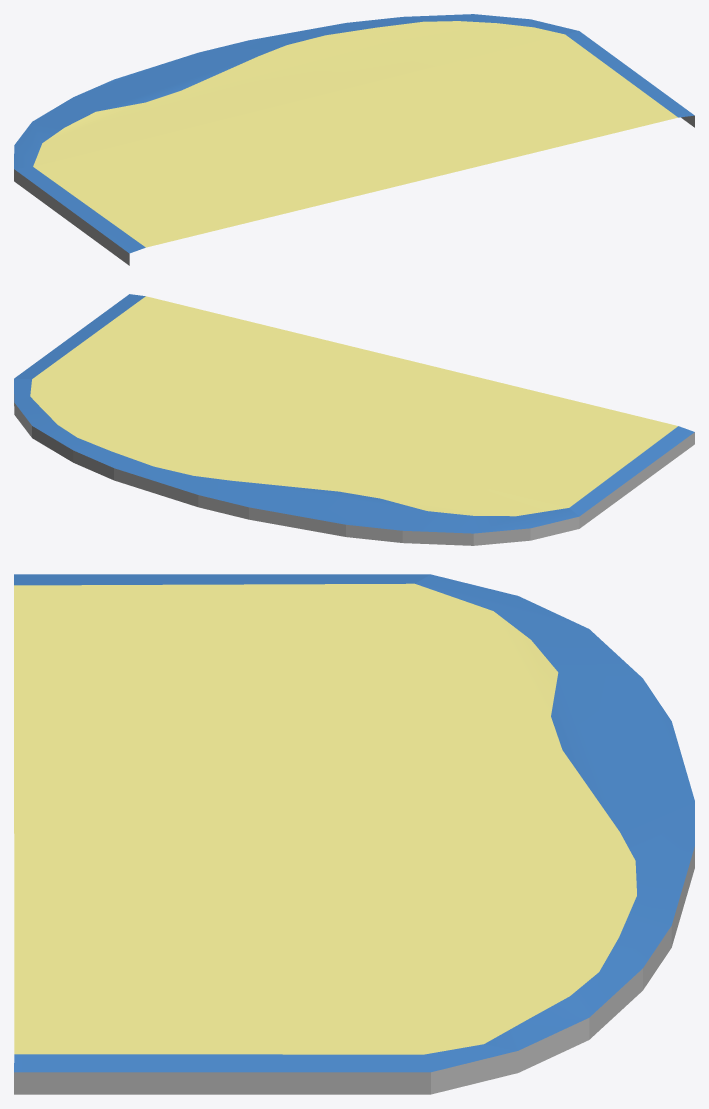
The model's file is SM_BH_Ground_001.fbx.
3 views of the same model, one above another, from view 1: azimuth 30°, elevation 25°; view 2: azimuth 150°, elevation 25°; view 3: azimuth 270°, elevation 25° (orthographic). The views are drawn at different scales.
Parts seen in each view (by area): view 1: SM_BH_Ground_001; view 2: SM_BH_Ground_001; view 3: SM_BH_Ground_001.
Boxes of the visible parts, <box> form: SM_BH_Ground_001: <box>14,14,694,265</box>; SM_BH_Ground_001: <box>14,294,694,545</box>; SM_BH_Ground_001: <box>14,574,694,1094</box>.
Bounding box in the file's own units: 153 × 3.91 × 88.24.
